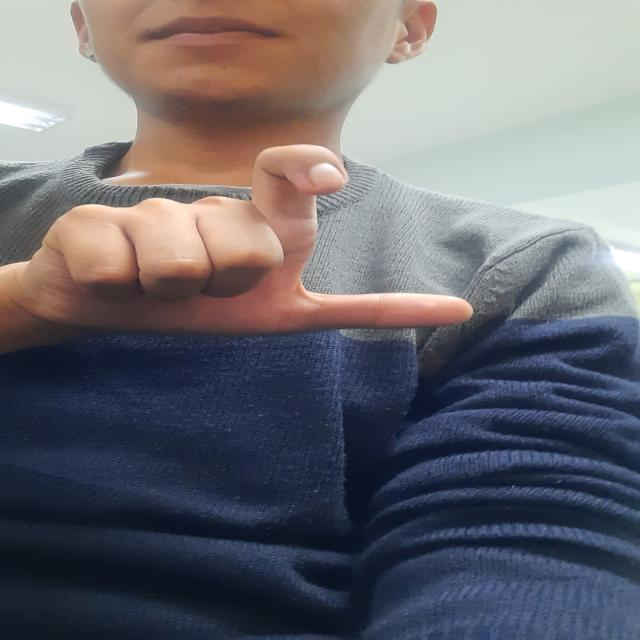G: (0, 137, 509, 345)
